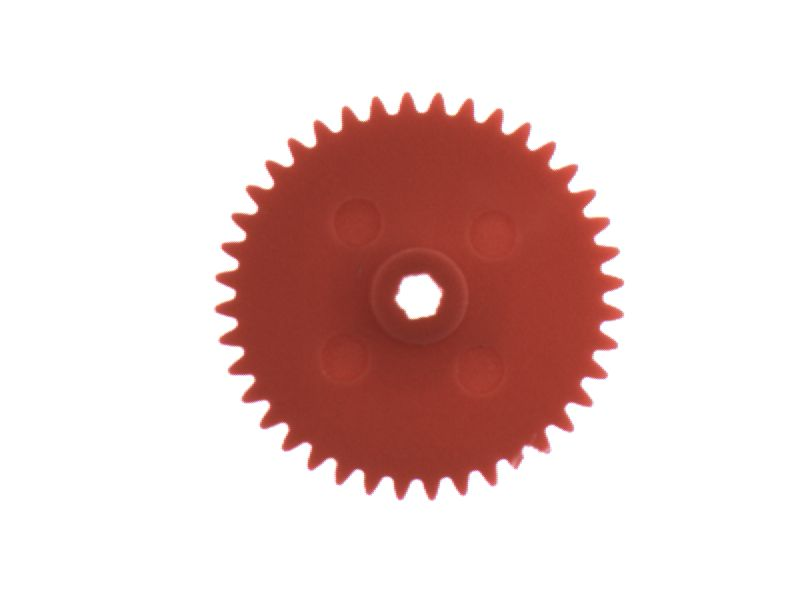defect_break: (496, 441, 545, 480)
